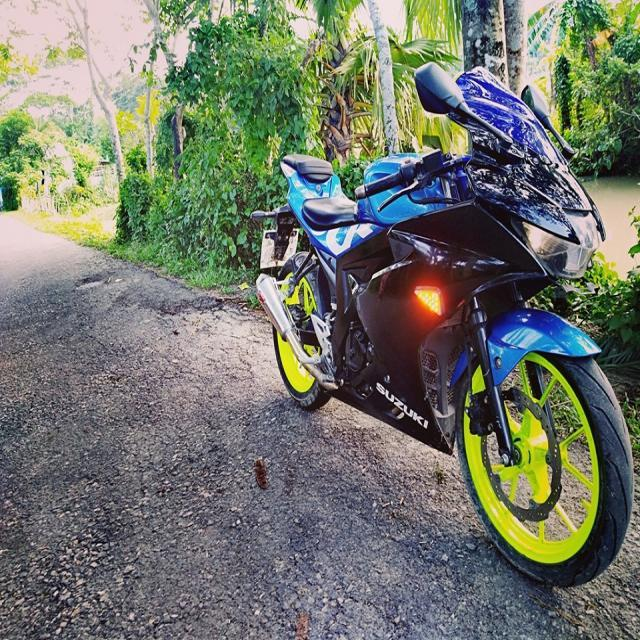Motorbike: (235, 41, 636, 601)
